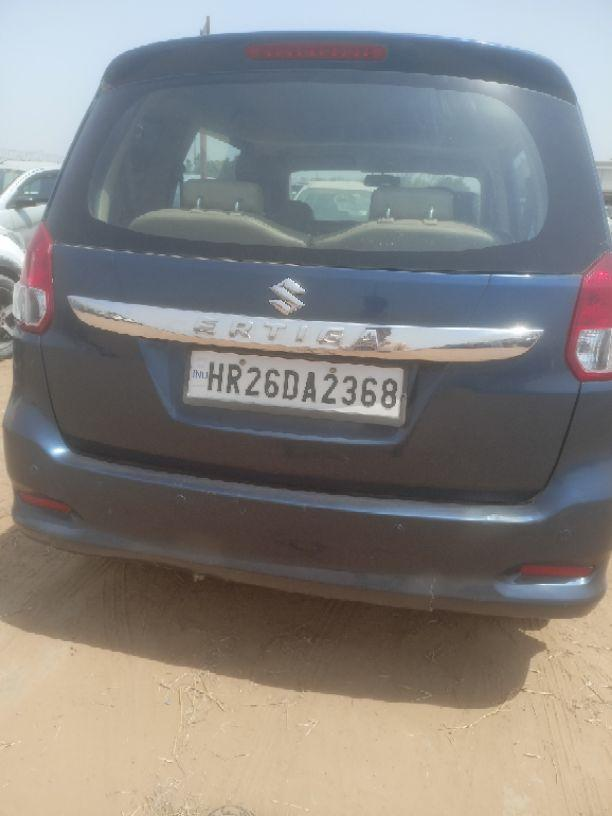license_plate: (181, 347, 408, 428)
